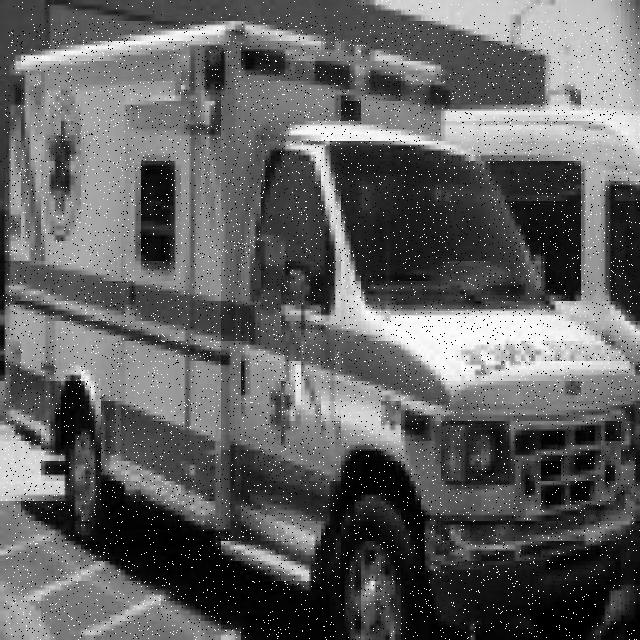Ambulance: (4, 21, 640, 640)
